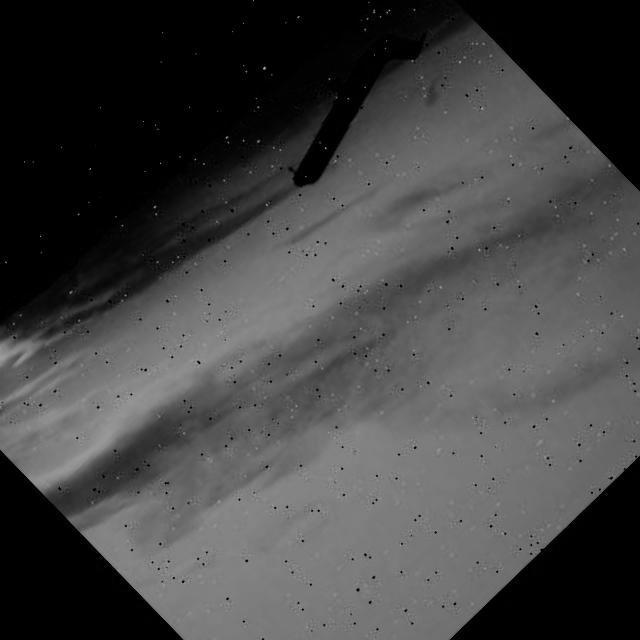aeroplane: (262, 11, 450, 195)
